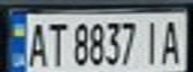3: (103, 18, 124, 66)
7: (118, 18, 142, 66)
8: (69, 18, 90, 68), (87, 19, 106, 66)
A: (157, 16, 187, 65), (24, 18, 51, 69)
I: (139, 16, 166, 66)
T: (42, 18, 69, 68)
